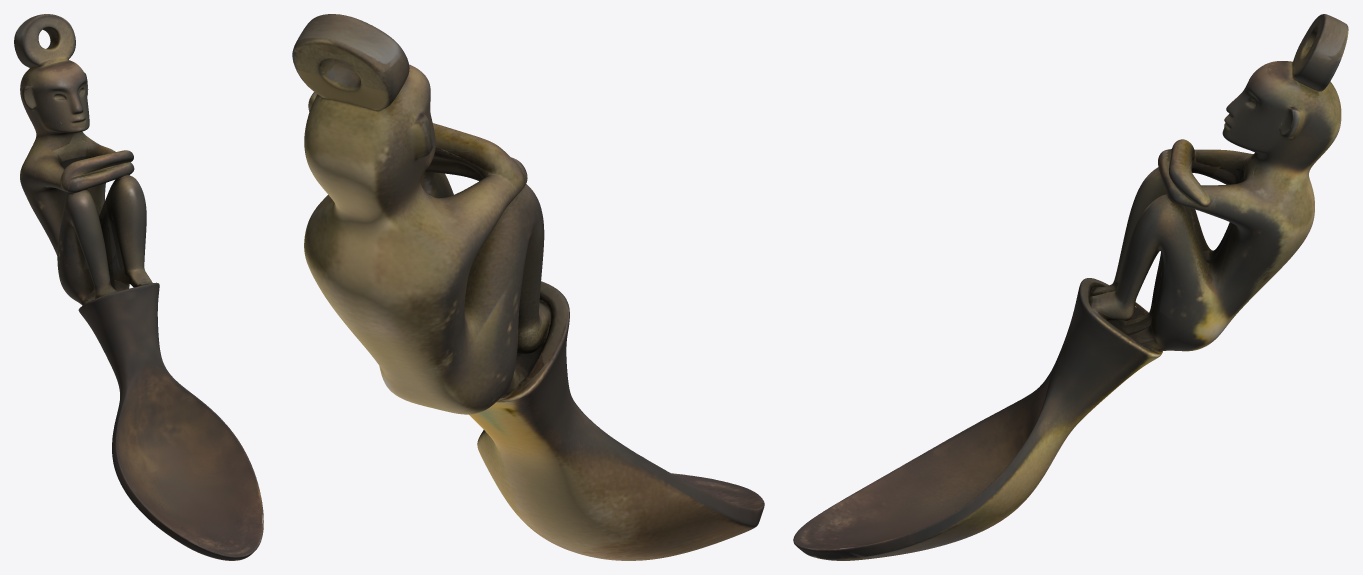
The picture shows the model from 3 angles, left to right: view 1: azimuth 30°, elevation 25°; view 2: azimuth 150°, elevation 25°; view 3: azimuth 270°, elevation 25°; orthographic projection. The views are drawn at different scales.
Size of the model in its own units: 0.6108 by 1.9 by 1.8.
1 material, 1 textured.
